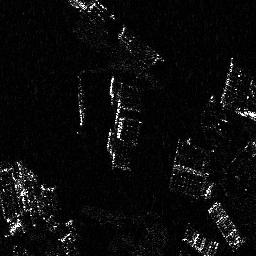ship: (74, 73, 87, 126)
